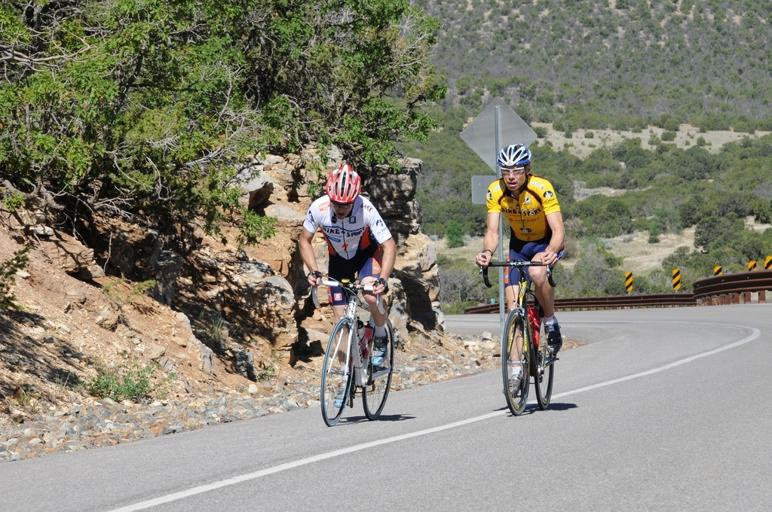non-vehicle: (301, 270, 394, 427), (480, 260, 559, 415)
